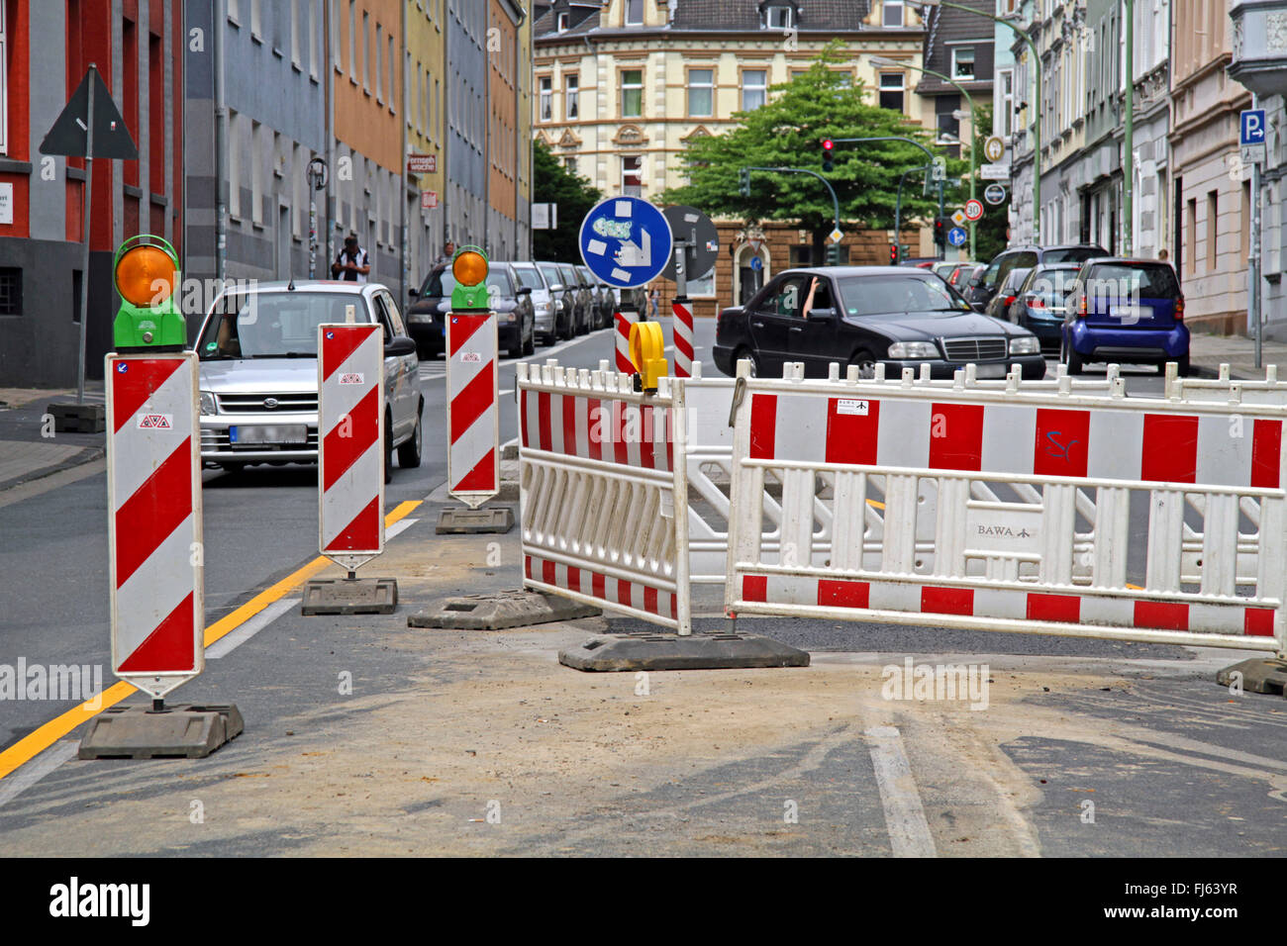Barrier: (501, 347, 1287, 706)
